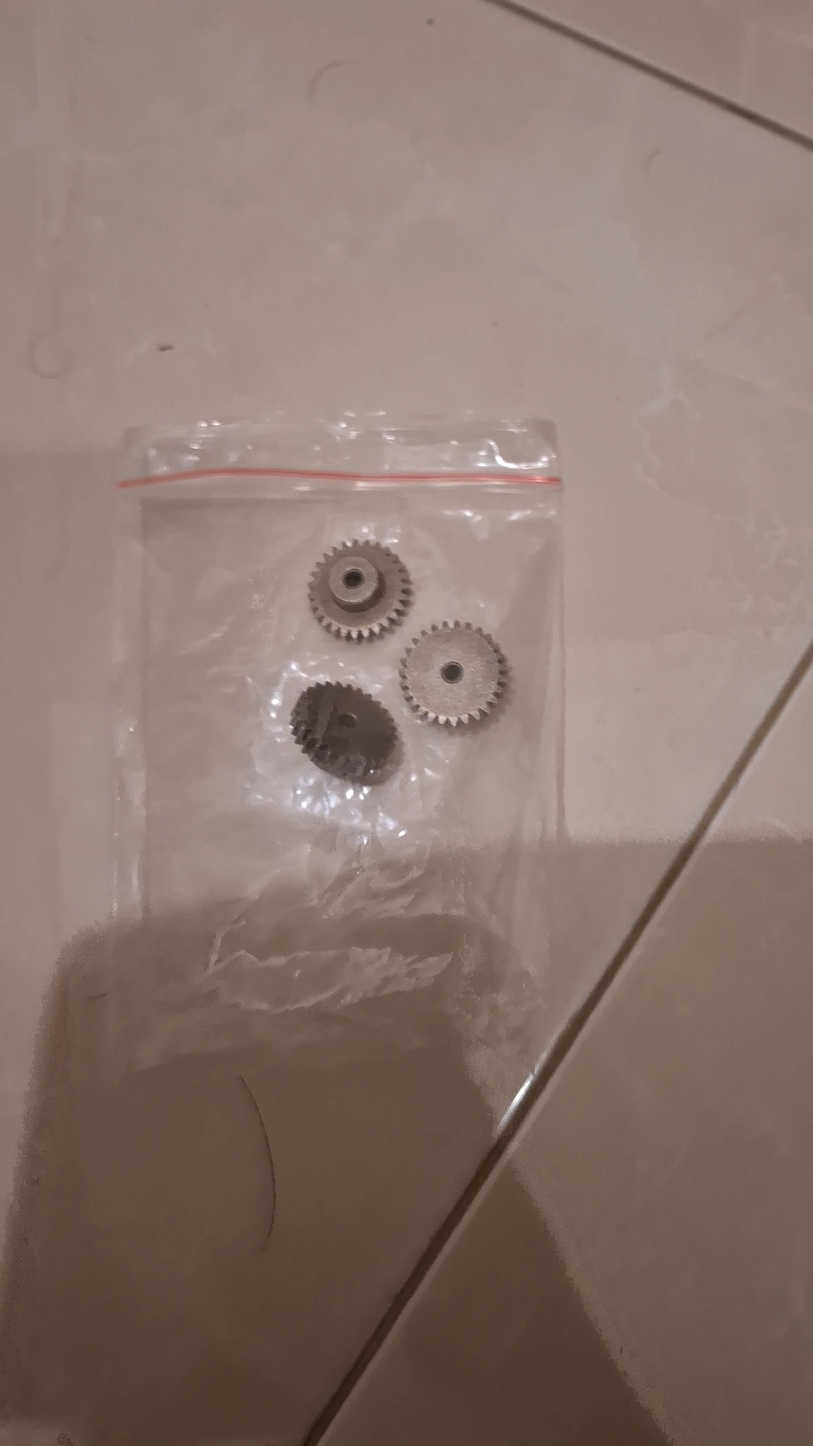spur gear: (396, 620, 510, 728), (286, 680, 401, 782), (304, 540, 412, 642)
